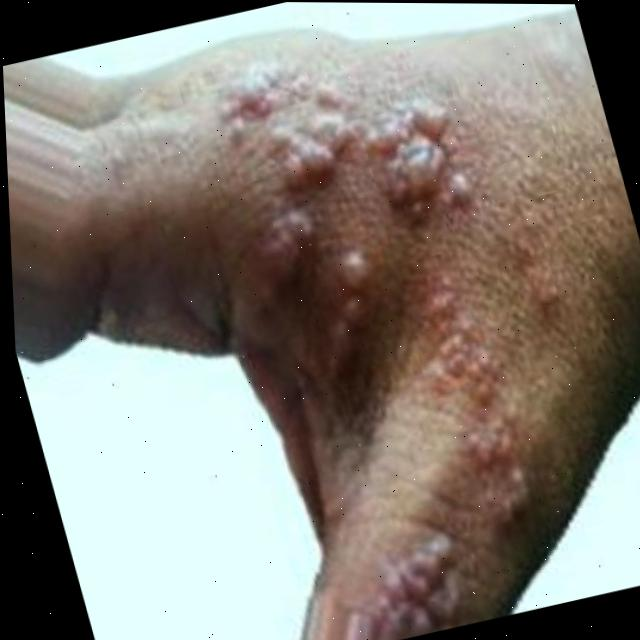Shingles: (211, 21, 501, 261), (409, 263, 544, 558), (292, 242, 401, 391), (360, 533, 469, 640), (242, 207, 332, 304)
